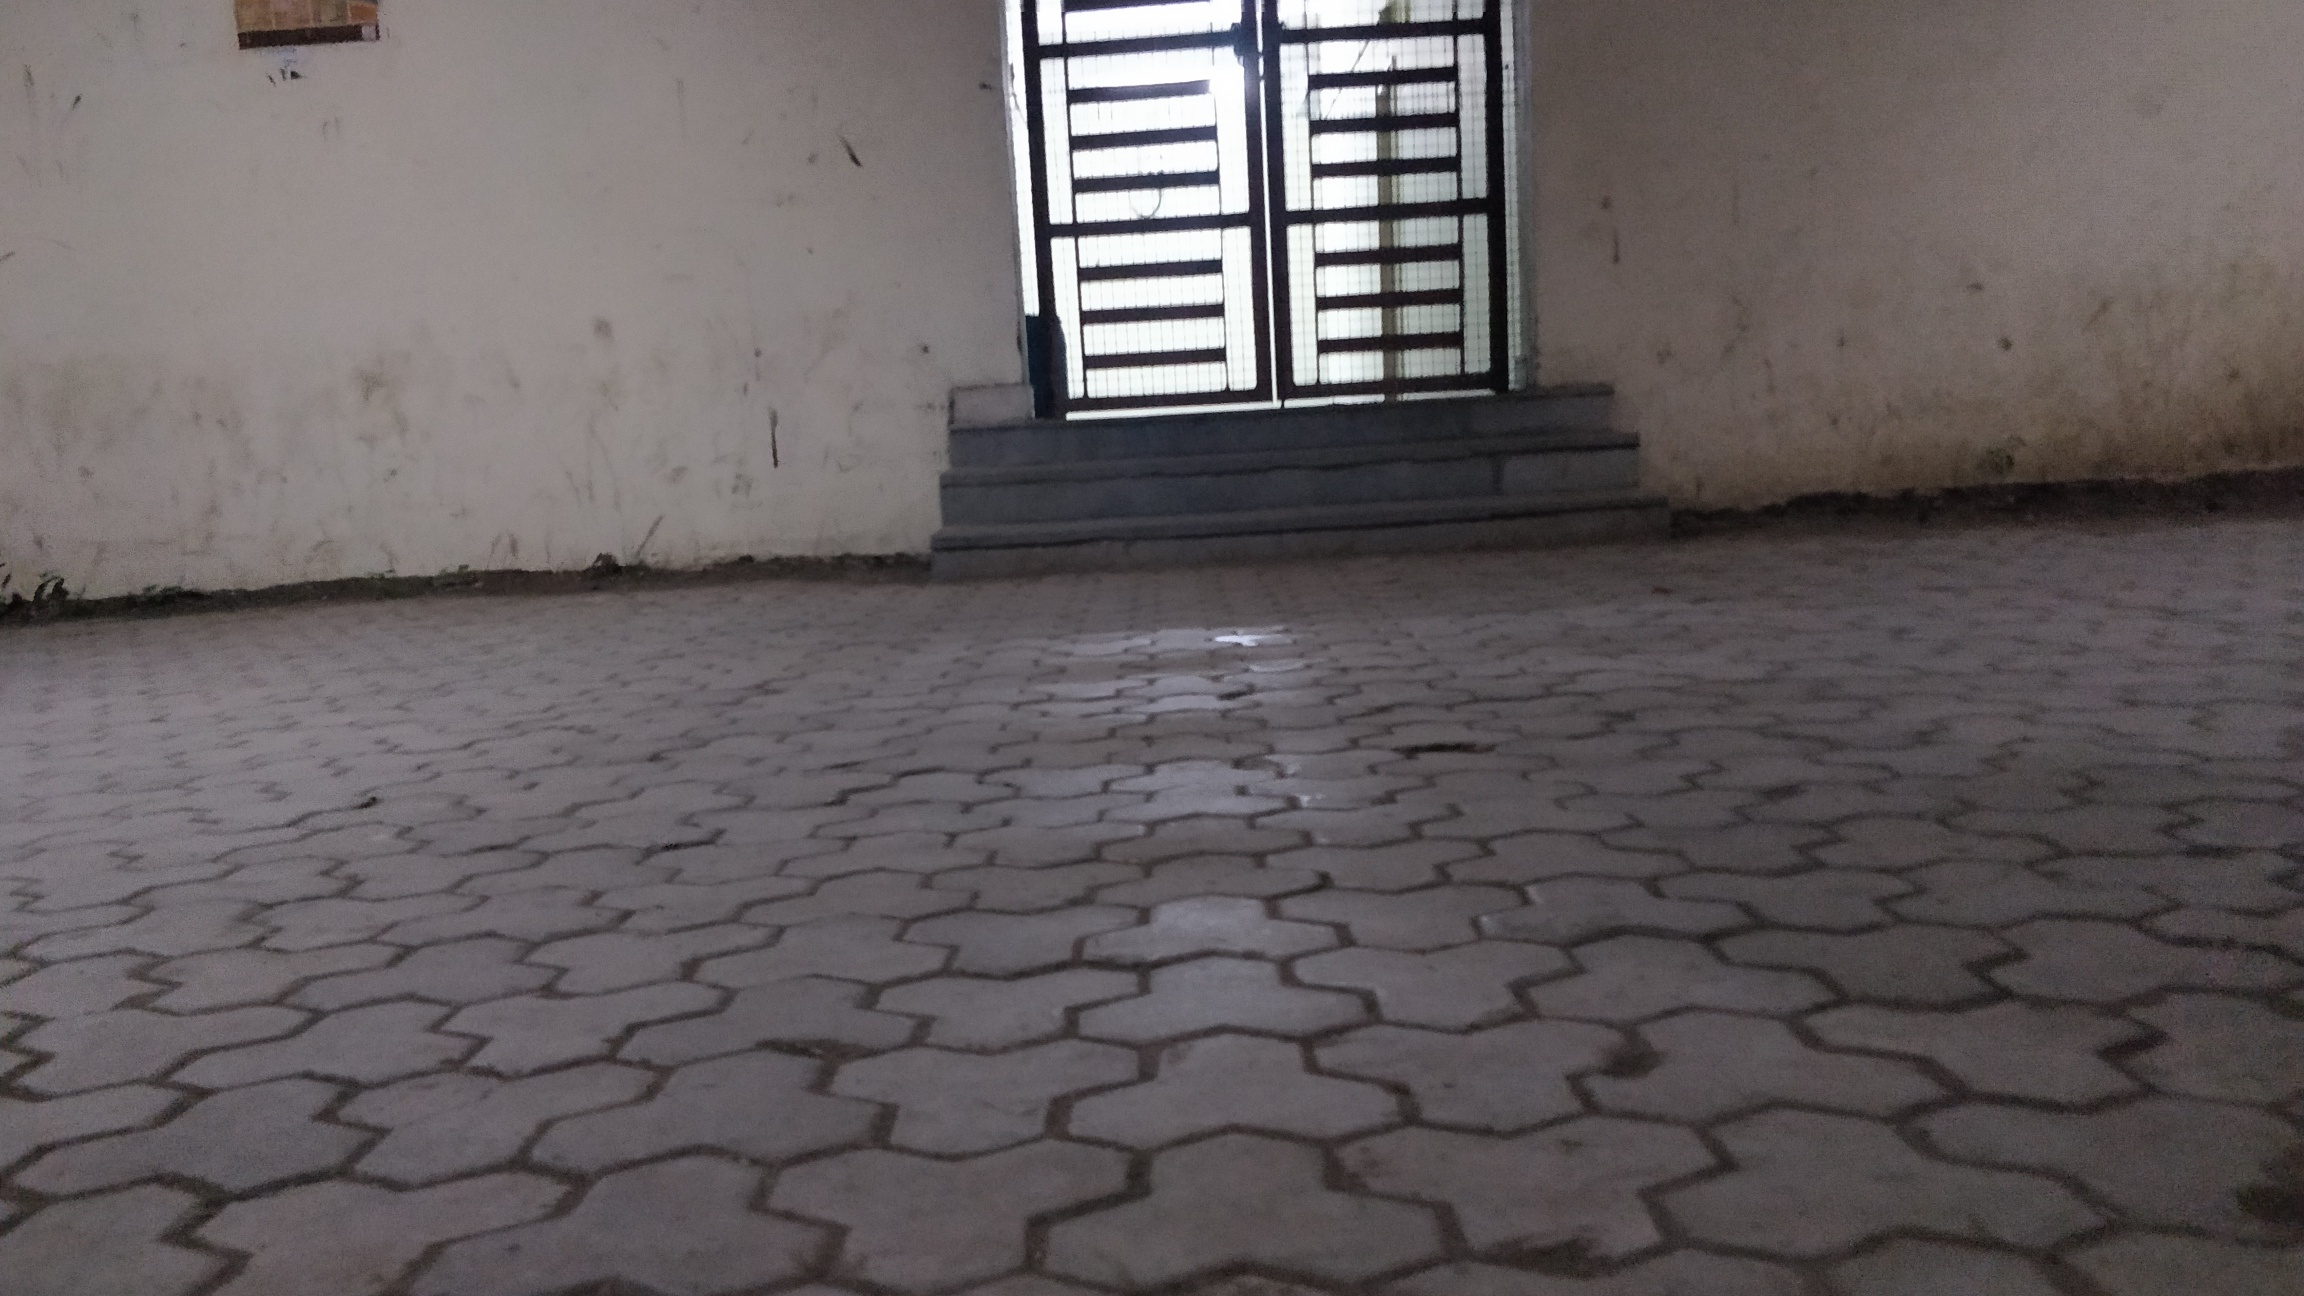stairs_up: (934, 407, 1655, 559)
